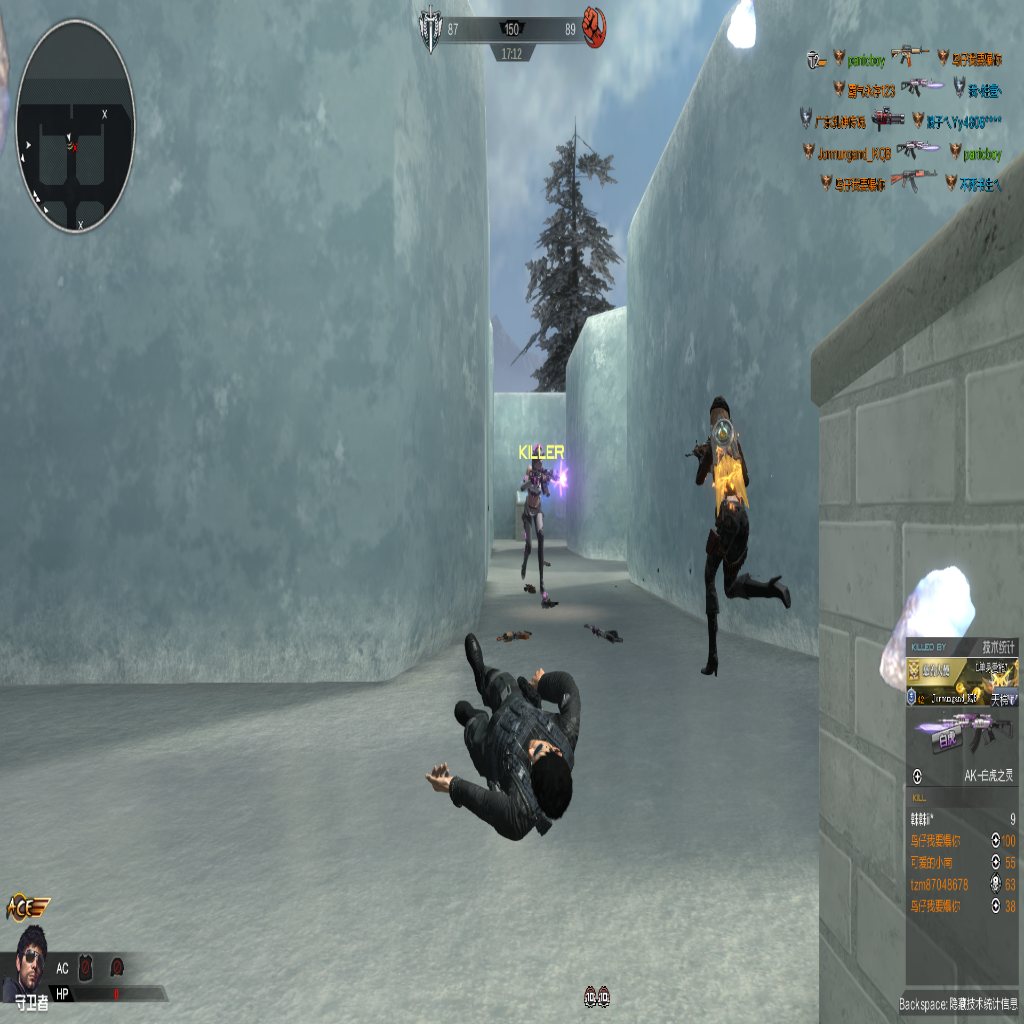ct: (678, 393, 786, 661)
tt: (516, 448, 553, 593)
